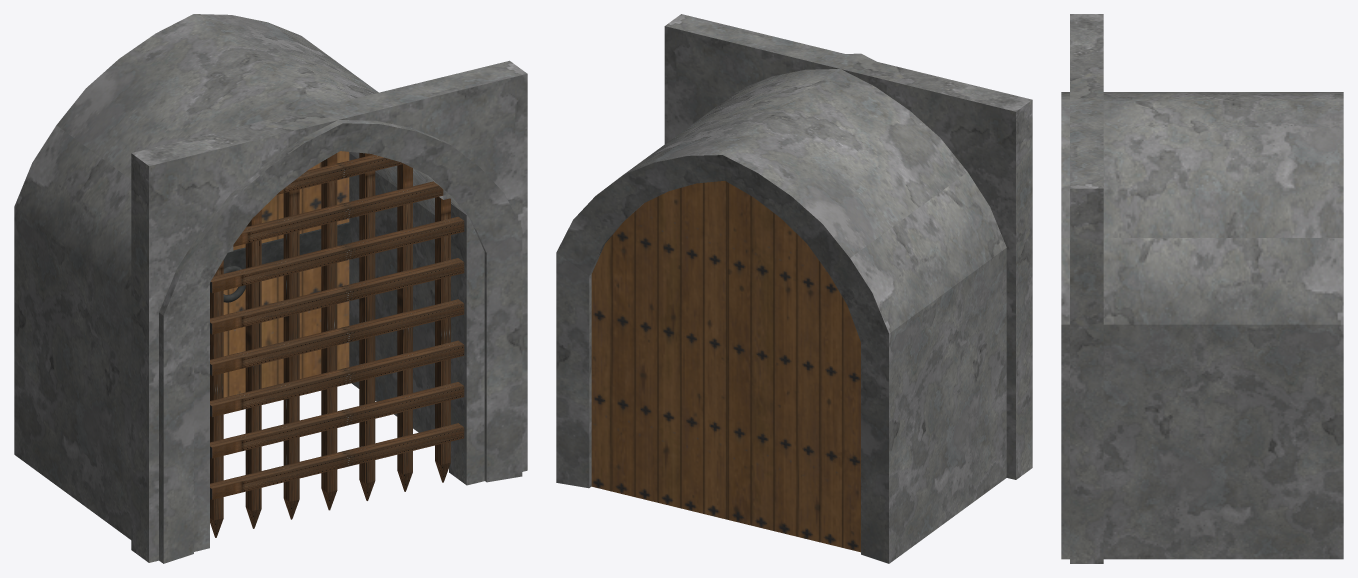
File: exit.gltf
The picture shows the model from 3 angles, left to right: view 1: azimuth 30°, elevation 25°; view 2: azimuth 150°, elevation 25°; view 3: azimuth 270°, elevation 25°; orthographic projection. The views are drawn at different scales.
Visible parts, largest first — view 1: Frame, Bars, Exit; view 2: Frame, Exit; view 3: Frame.
Boxes of the visible parts, x1=… form: Frame: x1=14, y1=14, x2=527, y2=563; Bars: x1=210, y1=153, x2=464, y2=537; Exit: x1=223, y1=151, x2=350, y2=397; Frame: x1=556, y1=14, x2=1032, y2=563; Exit: x1=591, y1=181, x2=860, y2=552; Frame: x1=1061, y1=14, x2=1343, y2=563.
Size of the model in its own units: 3 by 3.01 by 2.05.
Materials: 3 (3 with a texture image).
